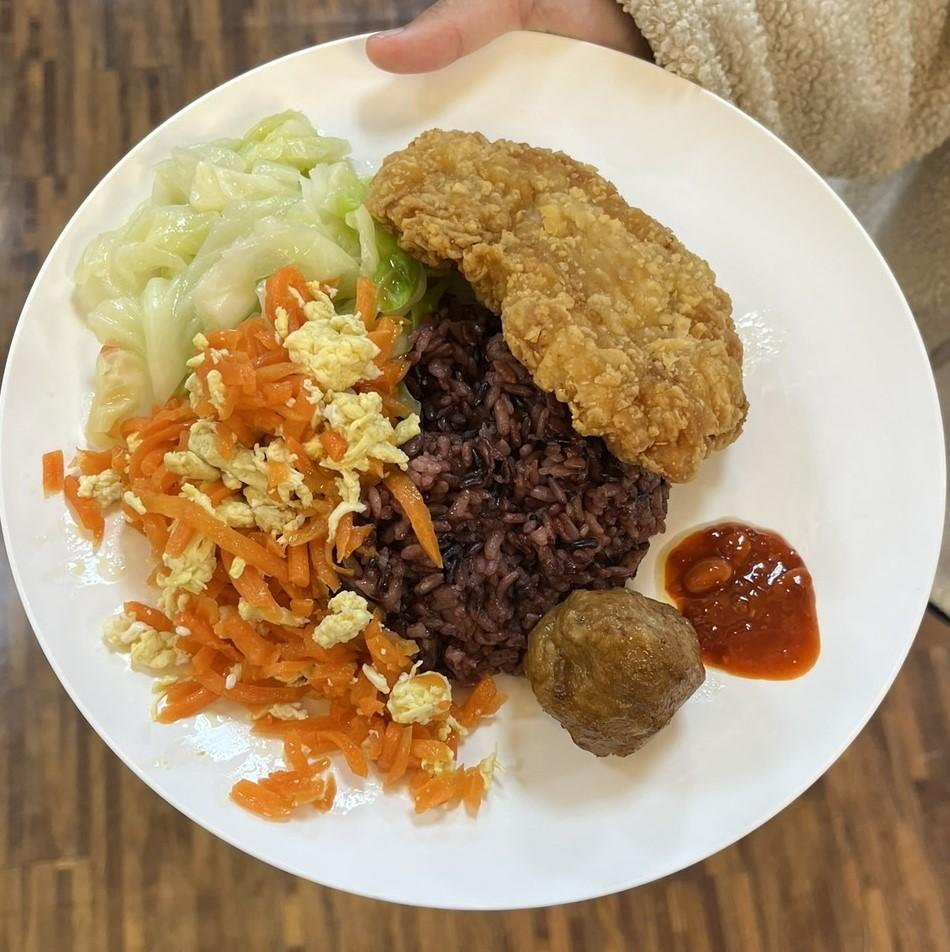big fried chicken leg: (4, 18, 950, 918)
braised fish: (347, 258, 674, 675)
braised fish fillet: (39, 286, 495, 839), (67, 100, 425, 401)
braised pork: (362, 120, 751, 483), (525, 574, 708, 761)
